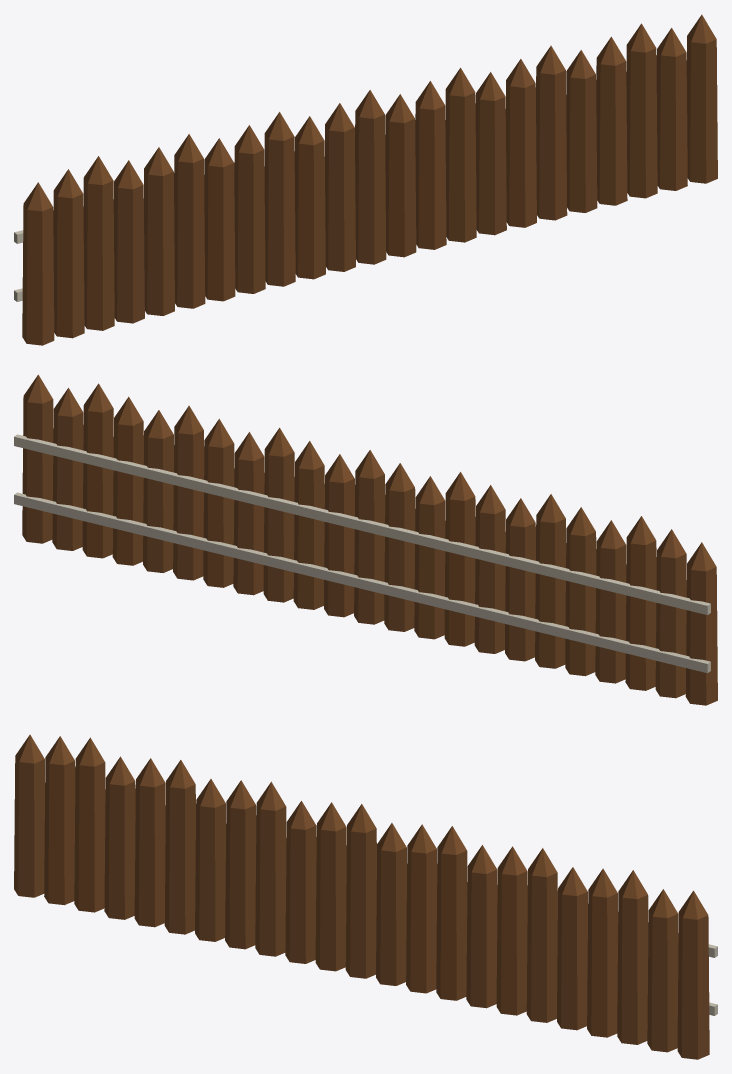
Rendered from centaur_wall.glb.
The picture shows the model from 3 angles, top to bottom: view 1: azimuth 30°, elevation 25°; view 2: azimuth 150°, elevation 25°; view 3: azimuth 330°, elevation 25°; orthographic projection.
Visible parts, largest first — view 1: centaur_wall; view 2: centaur_wall; view 3: centaur_wall.
Part boxes in pixels (box(x1,y1,x2,y2)): centaur_wall: box(14, 14, 717, 345); centaur_wall: box(14, 374, 717, 705); centaur_wall: box(14, 734, 717, 1059).
Size of the model in its own units: 6.25 by 1.45 by 0.2706.
